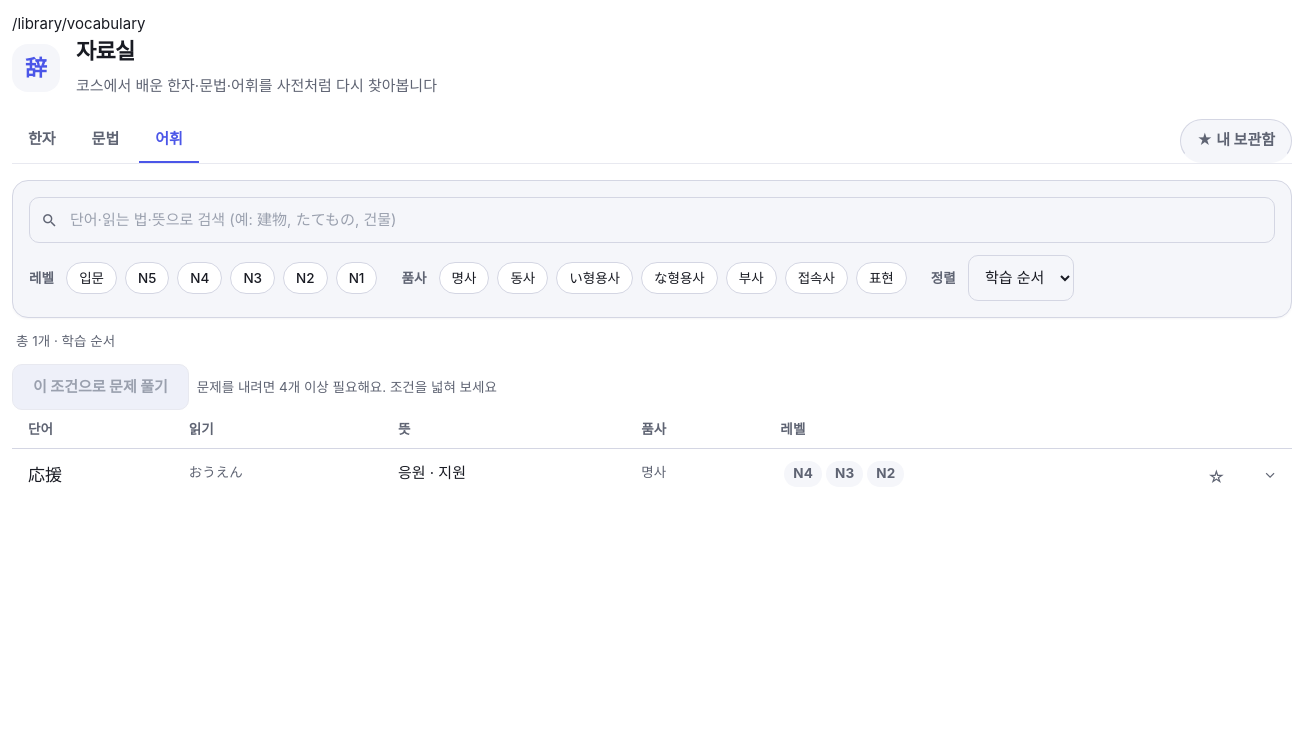
Test: LibraryVocabPage — 아코디언 (설계/05 §11) › 필터가 바뀌면 펼침이 모두 접힌다 (다른 목록이므로)
The image size is (1292, 732).
Step 1. Click the button with aria-label "応援 자세히 보기" → (652, 477), box [12,449,1291,506]
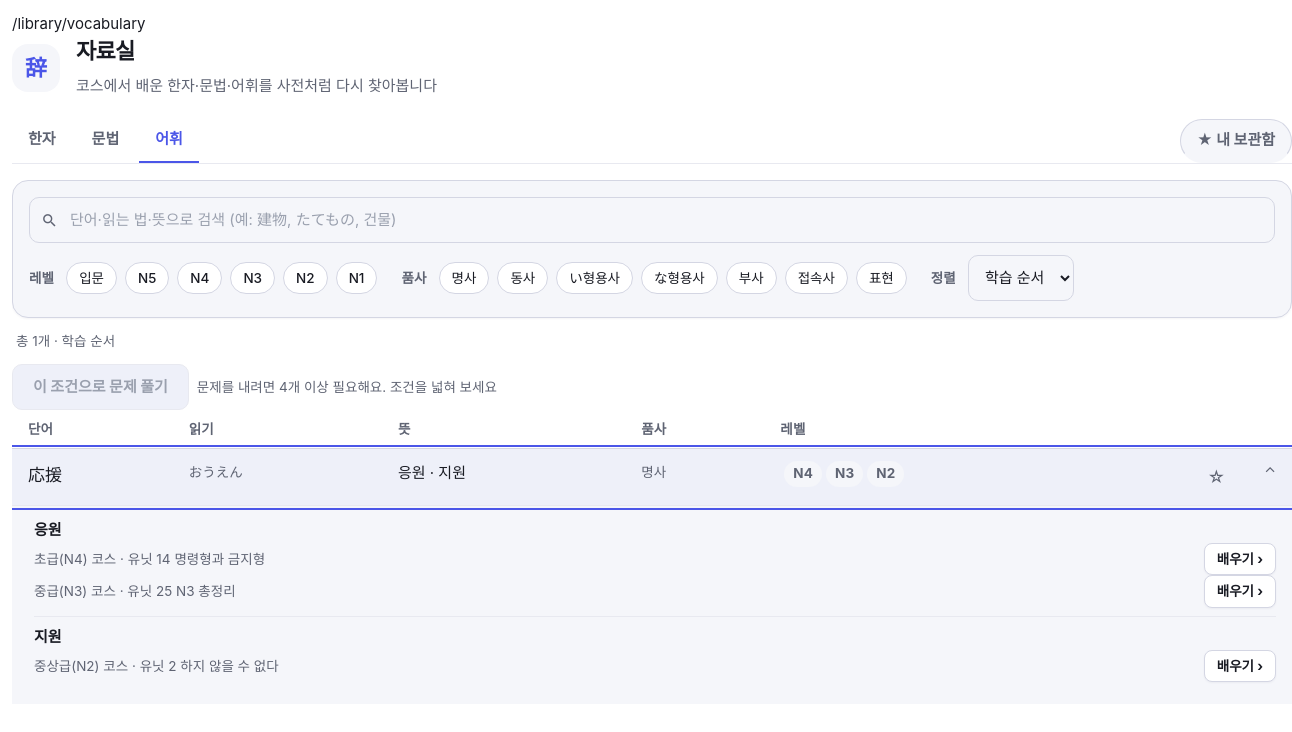
Result: the button with aria-label "応援 자세히 보기" is expanded at [12,449,1291,506]
Step 2. Click the button "N5" → (147, 278), box [125,262,169,294]
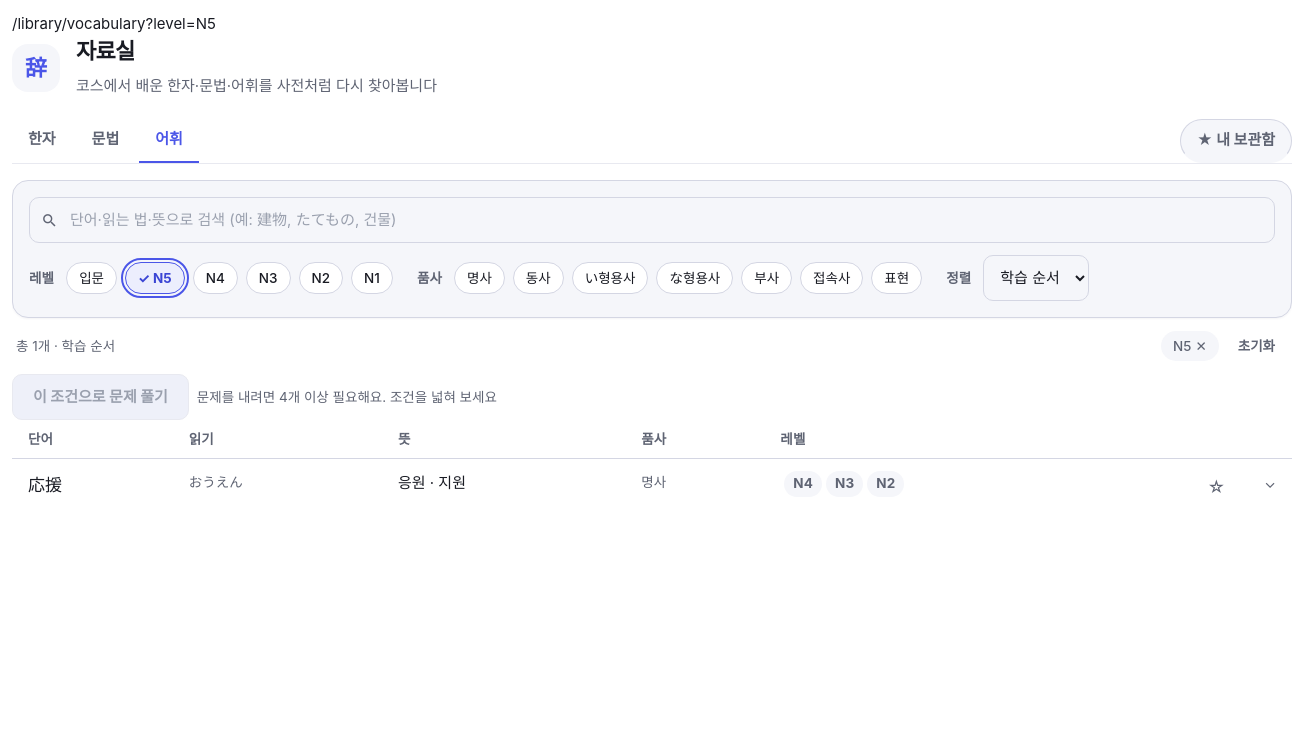
Result: the button with aria-label "応援 자세히 보기" is collapsed at [12,459,1291,516]
